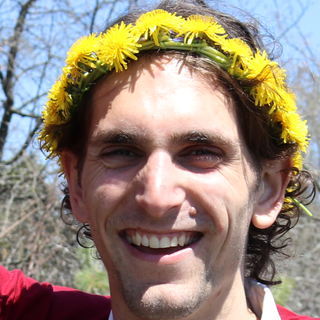eye: (176, 141, 224, 166), (98, 142, 143, 166)
